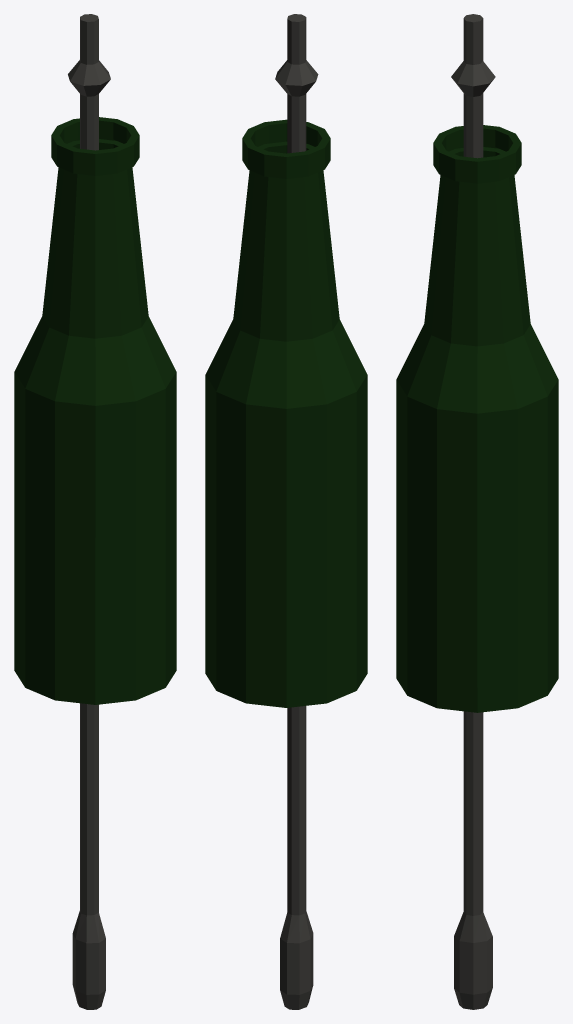
Rendered from bottlechime2.fbx.
3 views of the same model, side by side, from view 1: azimuth 30°, elevation 25°; view 2: azimuth 150°, elevation 25°; view 3: azimuth 270°, elevation 25° (orthographic).
Parts seen in each view (by area): view 1: chime2, chime2string; view 2: chime2, chime2string; view 3: chime2, chime2string.
Boxes of the visible parts, x1,y1,x2,y2 form: chime2: (14,117,176,704); chime2string: (68,14,110,1009); chime2: (205,119,367,707); chime2string: (275,14,318,1009); chime2: (396,125,558,712); chime2string: (451,14,495,1009).
Size of the model in its own units: 8.59 by 57.64 by 8.59.
